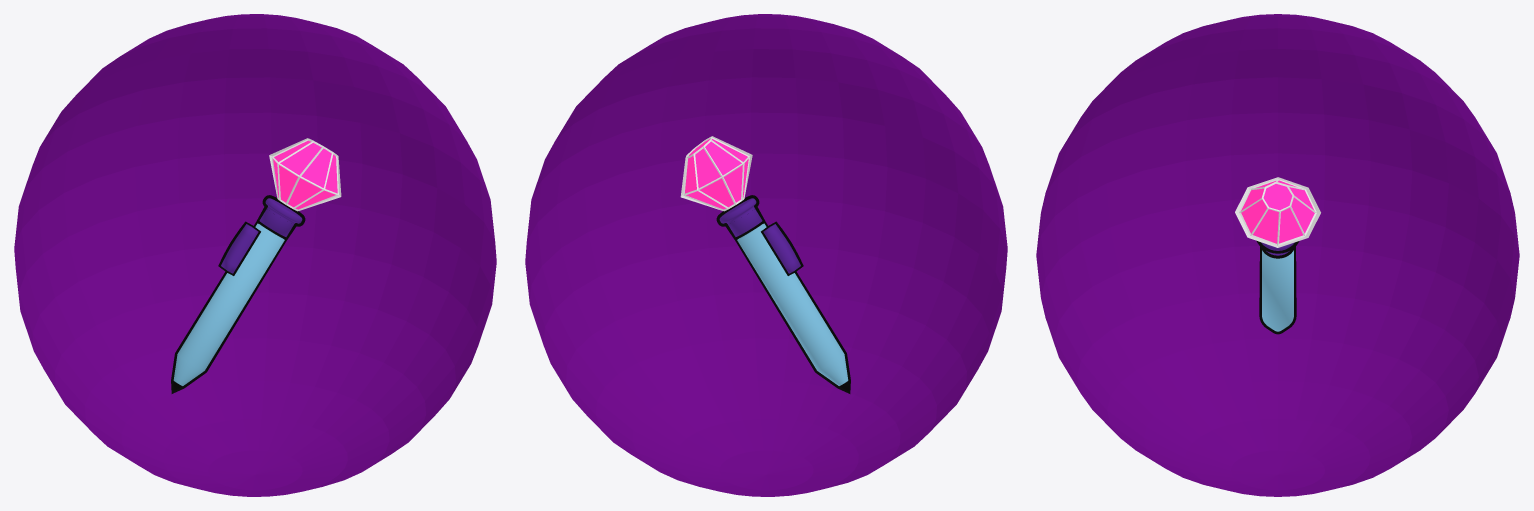
The model's file is gem_pen.glb.
The picture shows the model from 3 angles, left to right: view 1: azimuth 30°, elevation 25°; view 2: azimuth 150°, elevation 25°; view 3: azimuth 270°, elevation 25°; orthographic projection.
Parts seen in each view (by area): view 1: Sphere_1, Pen_0; view 2: Sphere_1, Pen_0; view 3: Sphere_1, Pen_0.
Boxes of the visible parts, x1,y1,x2,y2 form: Sphere_1: [14, 14, 496, 496]; Pen_0: [171, 138, 341, 393]; Sphere_1: [525, 14, 1007, 496]; Pen_0: [680, 136, 850, 393]; Sphere_1: [1036, 14, 1519, 496]; Pen_0: [1235, 177, 1320, 334].
Bounding box in the file's own units: 10.92 × 10.92 × 10.92.
